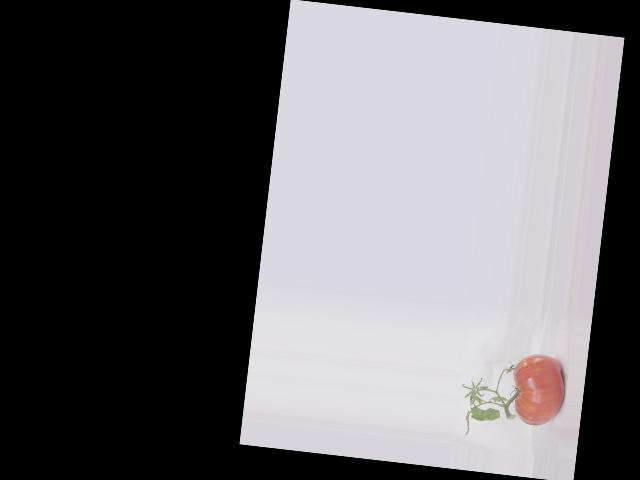tomato: (508, 351, 569, 428)
